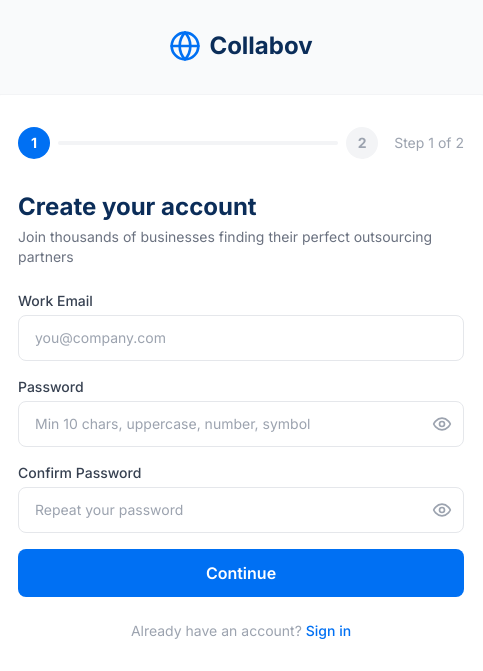
Feature: Buyer Registration (3-step flow) › Scenario: Step 1 shows a live password strength bar › should label a weak password as such
Type "aaaaaaaaaa" into the password field with placeholder "Min 10 chars, uppercase, number, symbol" at [241, 424], box x1=18 y1=401 x2=464 y2=447
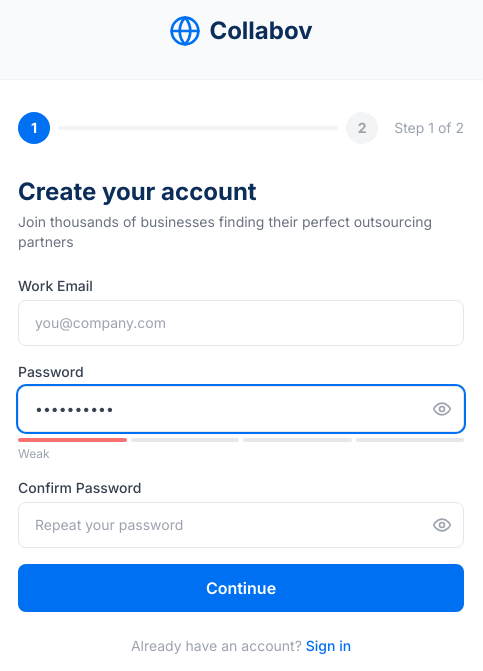
Expected: the text "Weak" is shown, x1=18 y1=446 x2=50 y2=461
